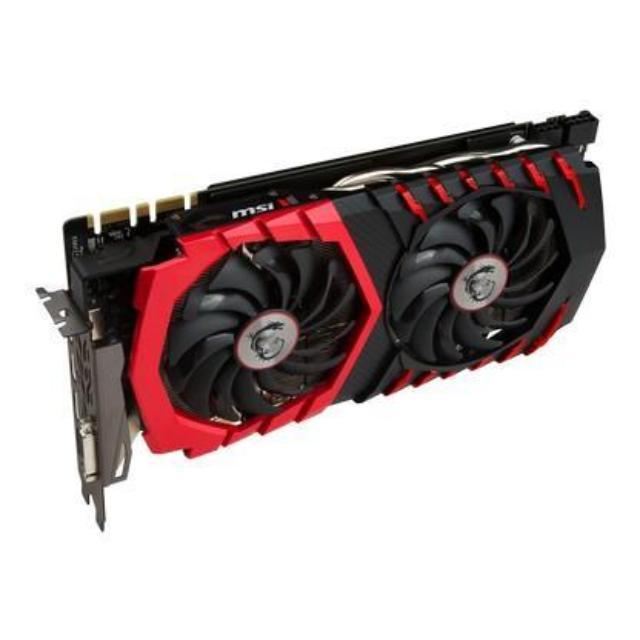GPU: (46, 94, 620, 497)
